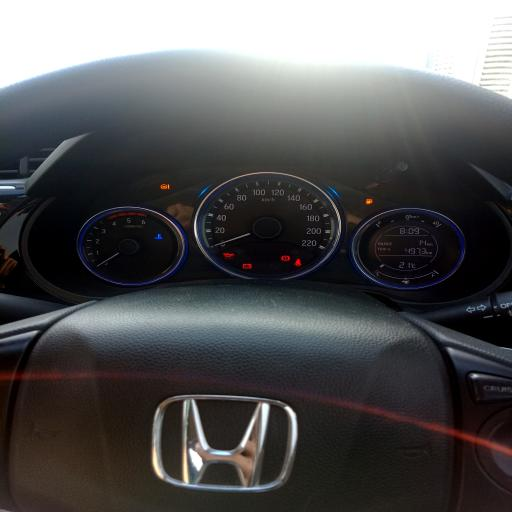belt: (294, 259, 302, 266)
brake_system_fault: (281, 255, 290, 261)
oil: (224, 252, 234, 257)
tachometer: (76, 206, 185, 285)
vehicle_charging: (242, 264, 252, 268)
